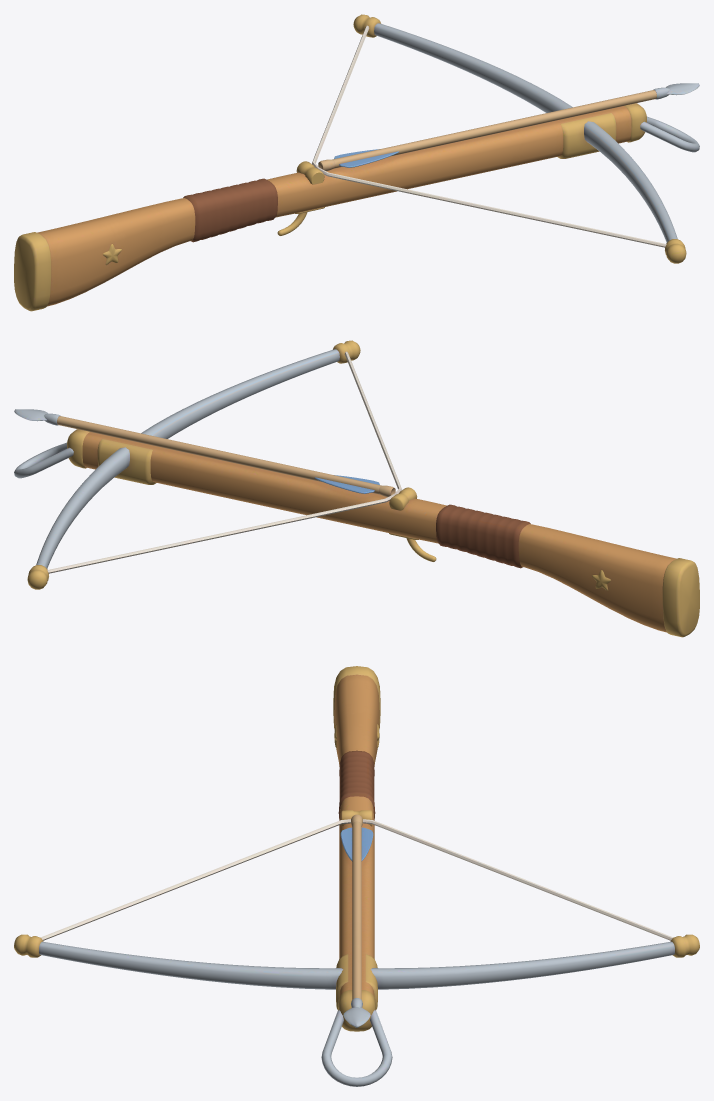
Rendered from crossbow.glb.
3 renders of one model, top to bottom at view 1: azimuth 30°, elevation 25°; view 2: azimuth 150°, elevation 25°; view 3: azimuth 270°, elevation 25°, orthographic. The views are drawn at different scales.
Parts seen in each view (by area): view 1: crossbow_body; view 2: crossbow_body; view 3: crossbow_body.
Part boxes in pixels (box(x1,y1,x2,y2)): crossbow_body: box(14, 14, 699, 311); crossbow_body: box(14, 340, 699, 637); crossbow_body: box(14, 666, 699, 1086).
Bounding box in the file's own units: 0.7549 × 0.0808 × 0.6236.
Materials: 1 (1 with a texture image).
